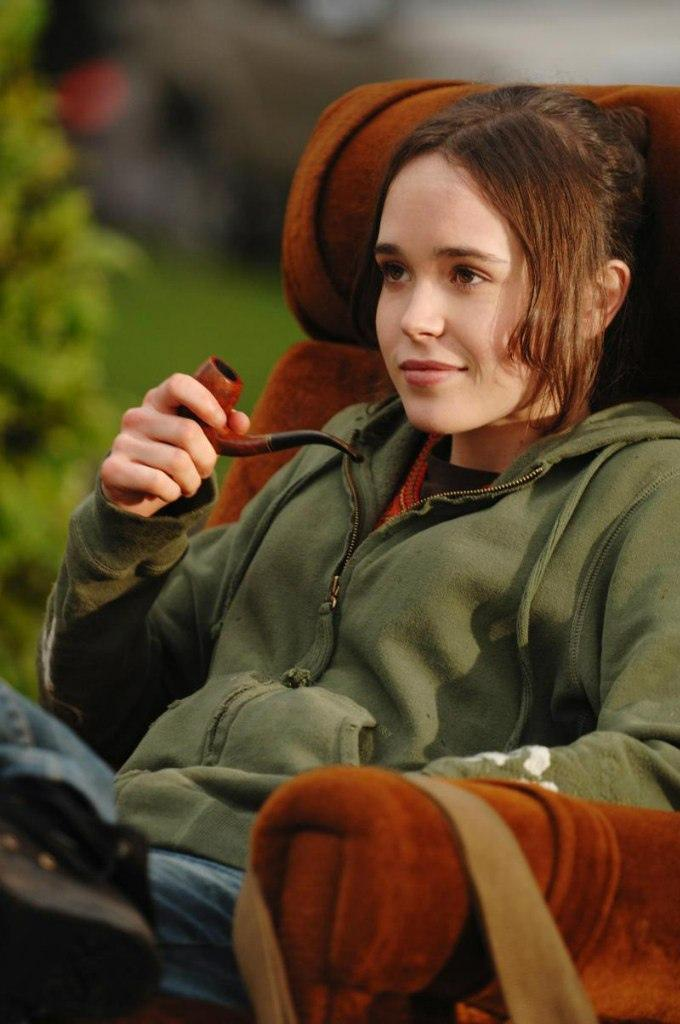trubka: (173, 355, 367, 464)
